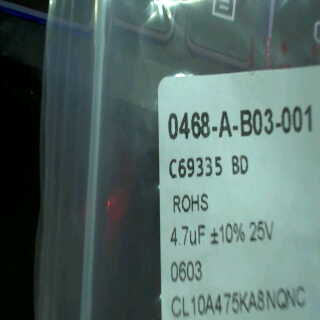4.7uF: (166, 221, 207, 247)
